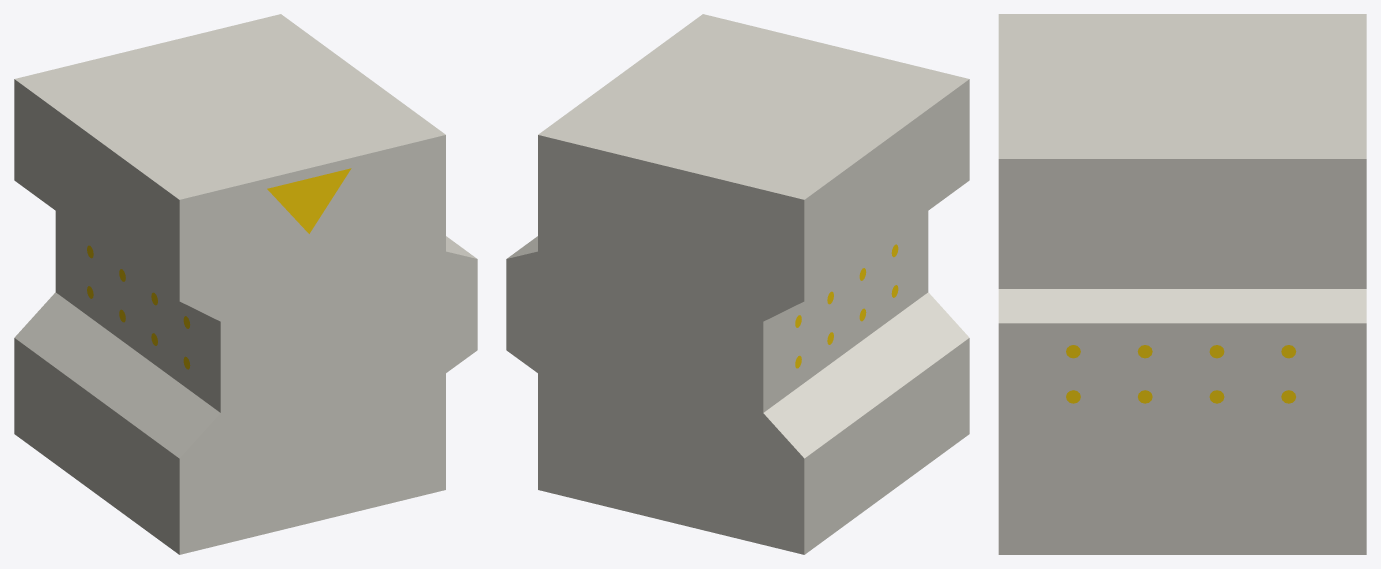
Rendered from central.obj.
The picture shows the model from 3 angles, left to right: view 1: azimuth 30°, elevation 25°; view 2: azimuth 150°, elevation 25°; view 3: azimuth 270°, elevation 25°; orthographic projection. The views are drawn at different scales.
Parts seen in each view (by area): view 1: central_cuerpo, central_oro; view 2: central_cuerpo, central_oro; view 3: central_cuerpo, central_oro.
Part boxes in pixels (x1=…): central_cuerpo: x1=14, y1=14, x2=477, y2=554; central_oro: x1=87, y1=168, x2=351, y2=369; central_cuerpo: x1=506, y1=14, x2=969, y2=554; central_oro: x1=795, y1=244, x2=898, y2=368; central_cuerpo: x1=998, y1=14, x2=1366, y2=554; central_oro: x1=1066, y1=345, x2=1296, y2=403.
Bounding box in the file's own units: 123 × 140 × 118.
